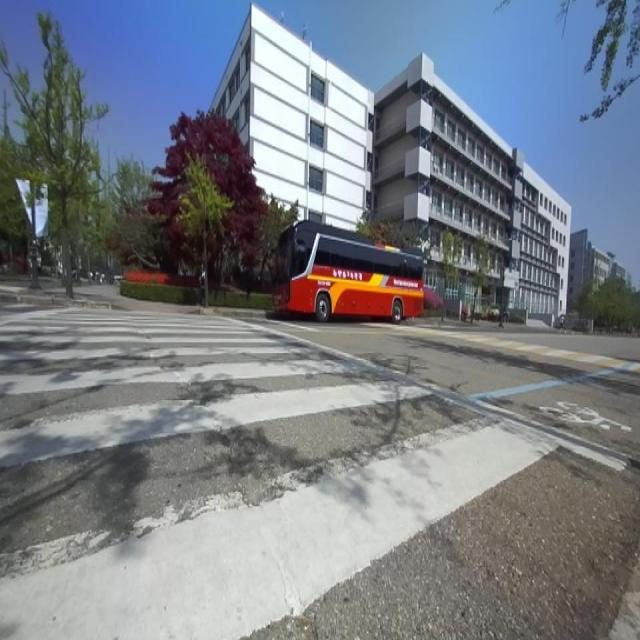sidewalk: (108, 295, 192, 313), (440, 320, 498, 330), (504, 323, 576, 330), (405, 316, 442, 326), (211, 307, 272, 313)
